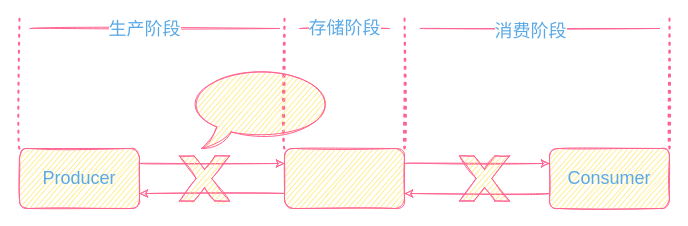
Image size: 688x226. Some labels were removed from this diagram. Here are the shapes that lost their labels. From the top down, the centre of each, then its label:
the point at 261,108: 网络中断、 硬件故障等
the point at 344,178: Broker
